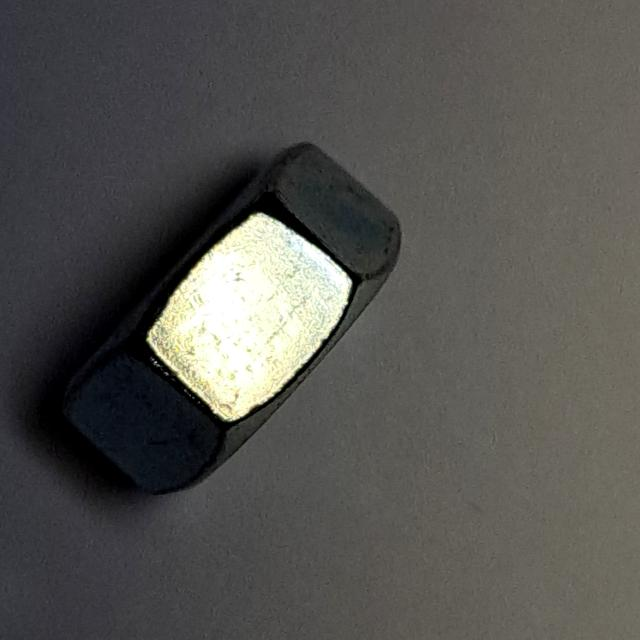Side_Excellent: (40, 128, 429, 511)
